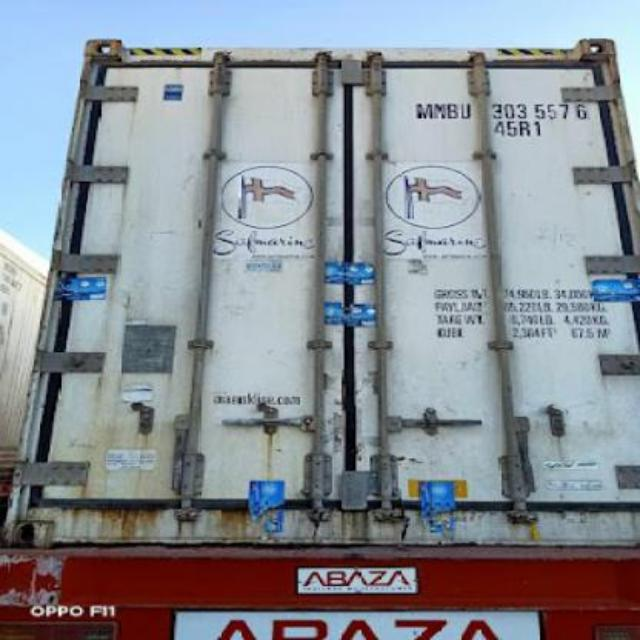0: (504, 98, 516, 119)
3: (514, 98, 530, 119), (491, 98, 504, 119)
5: (532, 98, 546, 119), (548, 97, 558, 123)
6: (574, 98, 590, 120)
7: (558, 98, 570, 120)
B: (444, 95, 458, 122)
M: (412, 95, 430, 122)
N: (430, 92, 446, 121)
U: (458, 95, 472, 122)
